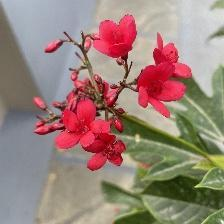jatropha: (55, 99, 111, 152), (136, 64, 188, 121), (92, 13, 140, 60)
